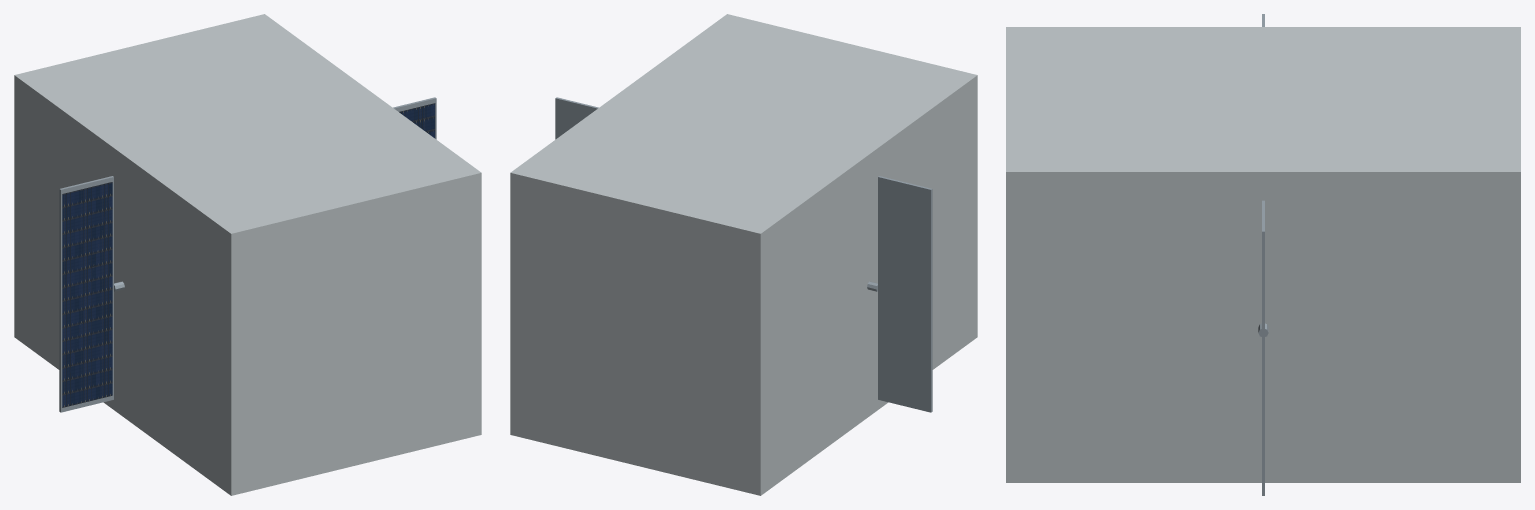
Rendered from ref-enshi-xida-shanquan-64962.glb.
The picture shows the model from 3 angles, left to right: view 1: azimuth 30°, elevation 25°; view 2: azimuth 150°, elevation 25°; view 3: azimuth 270°, elevation 25°; orthographic projection. The views are drawn at different scales.
Parts seen in each view (by area): view 1: Spacecraft body, Photovoltaic laminates (×2), Array frame; view 2: Spacecraft body, Array frame (×2); view 3: Spacecraft body, Array frame.
Part boxes in pixels (left/top/right/bottom): Spacecraft body: left=14, top=14, right=481, bottom=495; Photovoltaic laminates (×2): left=62, top=103, right=435, bottom=407; Array frame: left=59, top=176, right=113, bottom=412; Spacecraft body: left=510, top=14, right=977, bottom=495; Array frame (×2): left=555, top=97, right=932, bottom=412; Spacecraft body: left=1006, top=27, right=1520, bottom=482; Array frame: left=1262, top=200, right=1264, bottom=495.
Size of the model in its own units: 0.3 by 0.2 by 0.3.
3 materials, 1 textured.
